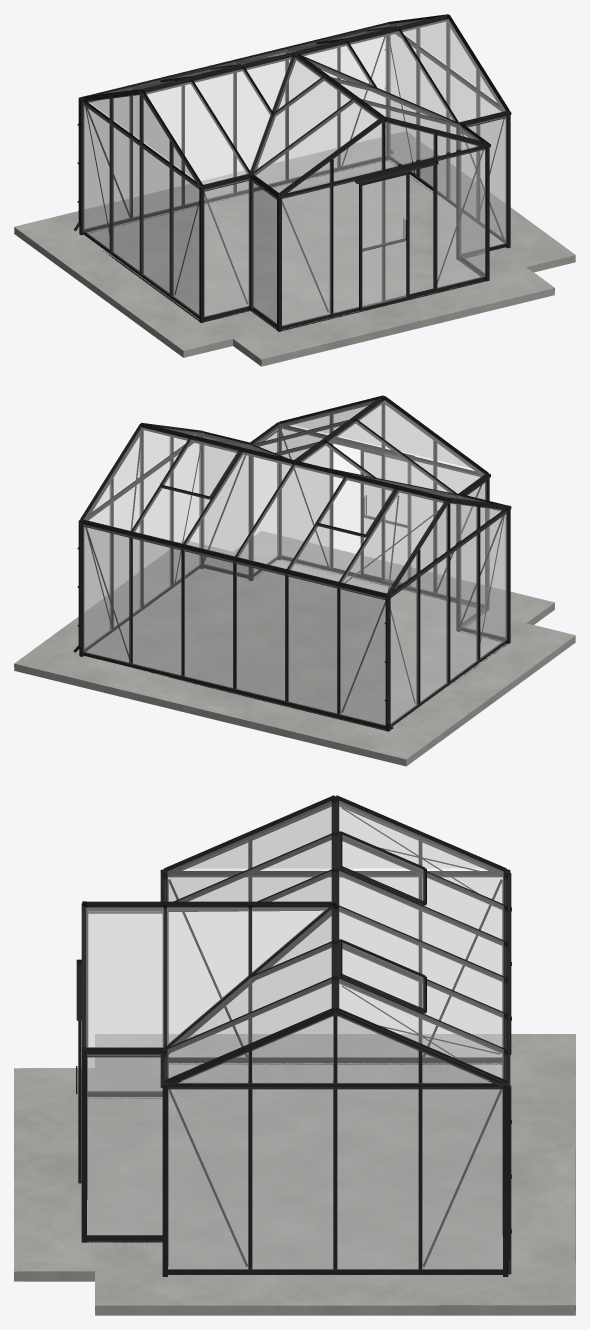
3 renders of one model, top to bottom at view 1: azimuth 30°, elevation 25°; view 2: azimuth 150°, elevation 25°; view 3: azimuth 270°, elevation 25°, orthographic. The views are drawn at different scales.
Parts seen in each view (by area): view 1: scandiglas-t178; view 2: scandiglas-t178; view 3: scandiglas-t178.
Boxes of the visible parts, x1=… form: scandiglas-t178: x1=14, y1=14, x2=575, y2=366; scandiglas-t178: x1=14, y1=395, x2=575, y2=766; scandiglas-t178: x1=14, y1=795, x2=575, y2=1315.
Bounding box in the file's own units: 5.85 × 2.79 × 5.12.
4 materials, 1 textured.
